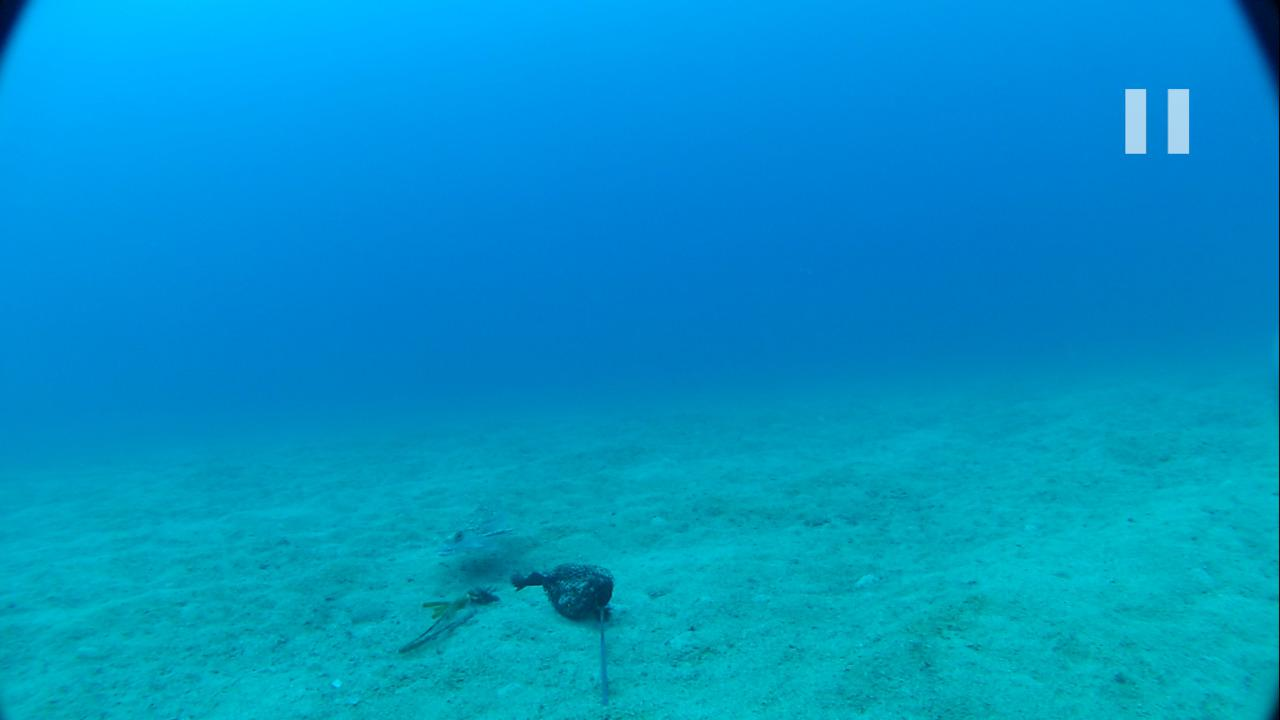dactylopterus: (431, 500, 548, 566)
